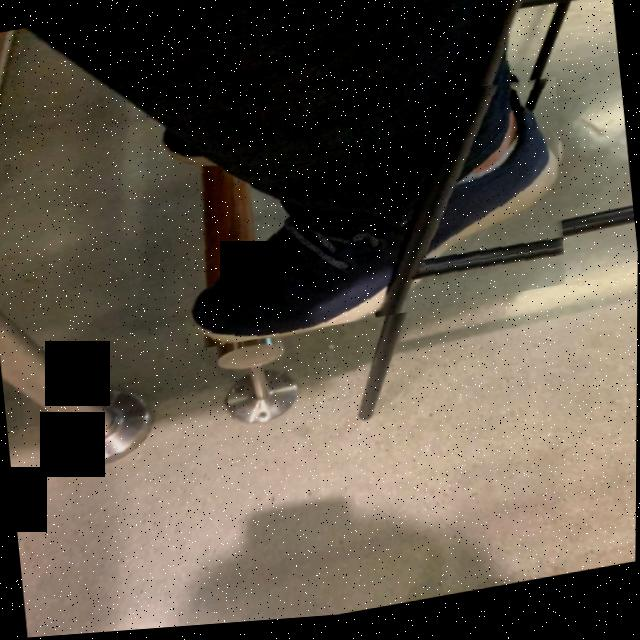shoe: (185, 88, 559, 338)
